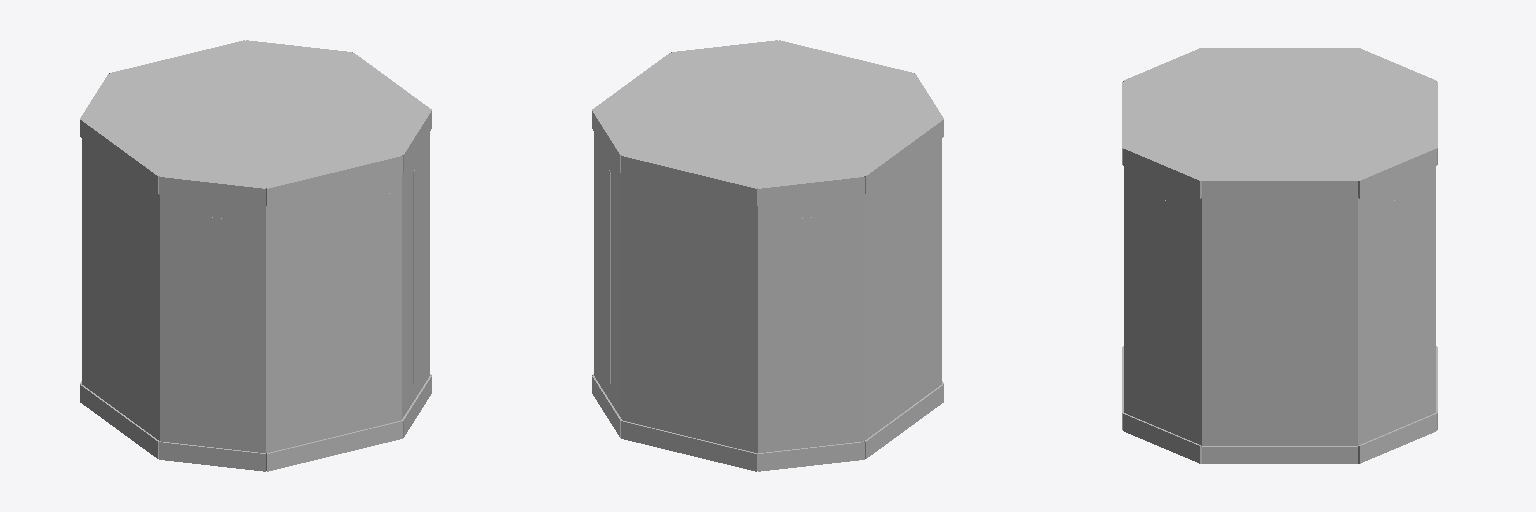
The model's file is proizvsanariumchunks.obj.
The picture shows the model from 3 angles: view 1: azimuth 30°, elevation 25°; view 2: azimuth 150°, elevation 25°; view 3: azimuth 270°, elevation 25°; orthographic projection.
Parts seen in each view (by area): view 1: cube.038, cube.041, cube.039, cube.059, cube.057, cube.054, cube.061, cube.053, cube.043, cube.058, cube.056, cube.072 (+13 smaller); view 2: cube.075, cube.040, cube.039, cube.057, cube.056, cube.054, cube.061, cube.042, cube.058, cube.053, cube.055, cube.071 (+13 smaller); view 3: cube.037, cube.042, cube.043, cube.061, cube.060, cube.053, cube.055, cube.058, cube.057, cube.054, cube.056, cube.059 (+11 smaller).
Part boxes in pixels (x1,y1,x2,y2): cube.038: (266, 191, 401, 435); cube.041: (160, 212, 265, 435); cube.039: (82, 155, 159, 422); cube.059: (231, 127, 402, 206); cube.057: (80, 74, 222, 131); cube.054: (159, 131, 292, 206); cube.061: (285, 53, 431, 126); cube.053: (80, 115, 227, 193); cube.043: (402, 147, 429, 400); cube.058: (195, 87, 316, 141); cube.056: (109, 40, 285, 86); cube.072: (204, 217, 222, 430); cube.075: (622, 191, 757, 435); cube.040: (758, 212, 863, 435); cube.039: (864, 155, 941, 422); cube.057: (728, 128, 864, 206); cube.056: (621, 125, 794, 206); cube.054: (806, 74, 943, 130); cube.061: (592, 53, 738, 126); cube.042: (594, 147, 621, 400); cube.058: (703, 89, 831, 139); cube.053: (804, 119, 943, 193); cube.055: (592, 98, 728, 172); cube.071: (802, 217, 819, 430); cube.037: (1202, 216, 1357, 427); cube.042: (1358, 183, 1435, 427); cube.043: (1124, 183, 1201, 427); cube.061: (1202, 148, 1357, 198); cube.060: (1123, 113, 1284, 198); cube.053: (1202, 48, 1357, 81); cube.055: (1280, 114, 1436, 198); cube.058: (1208, 83, 1351, 144); cube.057: (1277, 48, 1436, 115); cube.054: (1123, 48, 1278, 113); cube.056: (1354, 82, 1437, 164); cube.059: (1122, 82, 1201, 164).
Bounding box in the file's own units: 1.01 × 1 × 1.01.